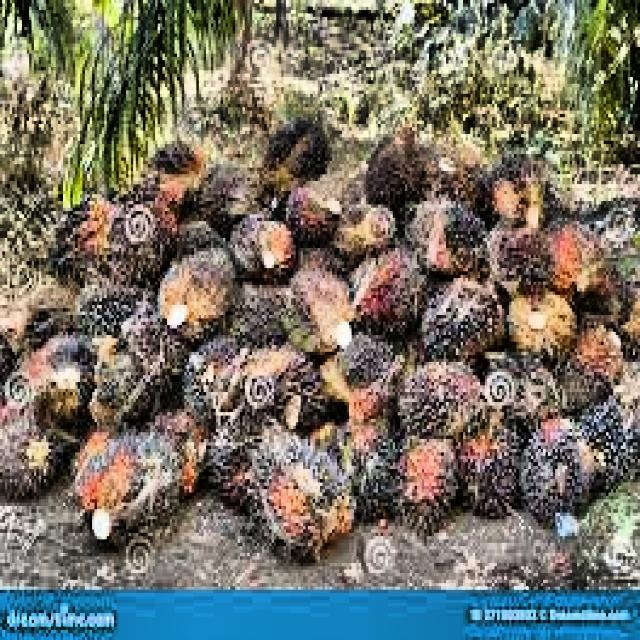FFB: (77, 433, 171, 555), (258, 436, 348, 549), (282, 247, 351, 352), (101, 197, 179, 289), (420, 279, 501, 366), (159, 246, 235, 336), (459, 408, 525, 509), (408, 199, 491, 279), (393, 438, 455, 540), (529, 422, 591, 520), (401, 361, 483, 435), (0, 411, 78, 484), (356, 250, 423, 334), (333, 330, 406, 407), (197, 158, 274, 230), (363, 136, 433, 208), (31, 343, 90, 425), (97, 339, 153, 424), (481, 222, 548, 292), (511, 290, 575, 361), (136, 142, 203, 209), (543, 210, 598, 286), (485, 155, 545, 222), (230, 214, 286, 279), (333, 206, 396, 262), (266, 125, 329, 178), (286, 185, 331, 240)
